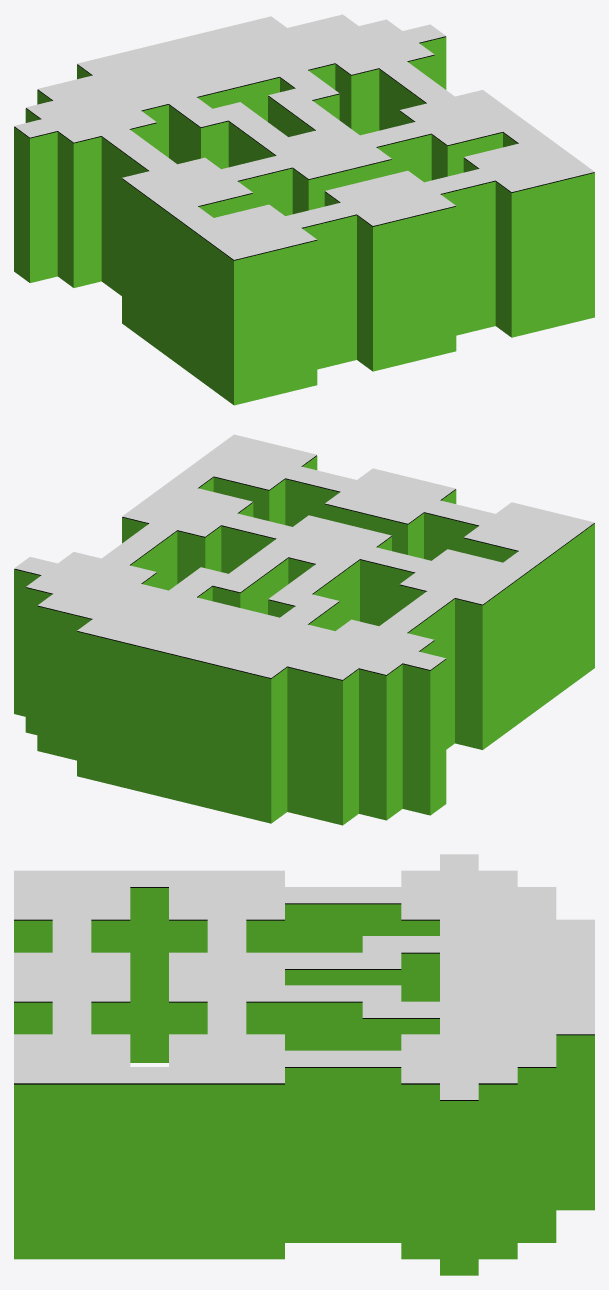
Rendered from lvl3New.glb.
3 renders of one model, top to bottom at view 1: azimuth 30°, elevation 25°; view 2: azimuth 150°, elevation 25°; view 3: azimuth 270°, elevation 25°, orthographic. The views are drawn at different scales.
Visible parts, largest first — view 1: Terrain; view 2: Terrain; view 3: Terrain, Tile.001, Tile.002, Tile.005, Tile.009, Tile.048, Tile.052, Tile.059, Tile.060, Tile.073, Tile.082, Tile.090 (+121 smaller).
Part boxes in pixels (x1,y1,x2,y2): Terrain: (14,36,594,405); Terrain: (14,455,594,825); Terrain: (14,887,594,1275); Tile.001: (478,1034,517,1050); Tile.002: (478,985,517,1001); Tile.005: (362,985,401,1001); Tile.009: (207,903,246,919); Tile.048: (362,936,401,952); Tile.052: (207,1034,246,1050); Tile.059: (91,1034,130,1050); Tile.060: (91,985,130,1001); Tile.073: (91,903,130,919); Tile.082: (52,985,91,1001); Tile.090: (52,1034,91,1050).
Bounding box in the file's own units: 15 × 5.01 × 15.
